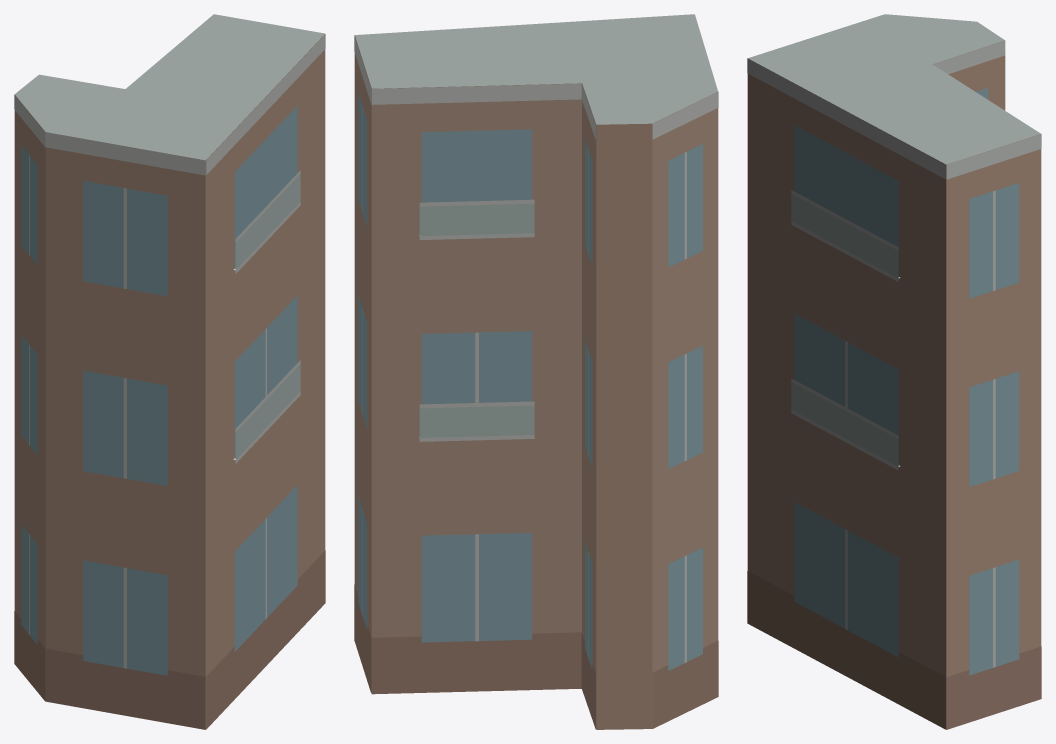
File: survey-upis-32866316.glb
3 views of the same model, side by side, from view 1: azimuth 30°, elevation 25°; view 2: azimuth 150°, elevation 25°; view 3: azimuth 270°, elevation 25° (orthographic). The views are drawn at different scales.
Parts seen in each view (by area): view 1: survey-upis-32866316.tmp; view 2: survey-upis-32866316.tmp; view 3: survey-upis-32866316.tmp.
Part boxes in pixels (x1,y1,x2,y2): survey-upis-32866316.tmp: (14,14,325,729); survey-upis-32866316.tmp: (354,14,718,729); survey-upis-32866316.tmp: (747,14,1041,729).
Size of the model in its own units: 5.24 by 9.15 by 4.32.
